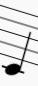note: (1, 2, 32, 77)
